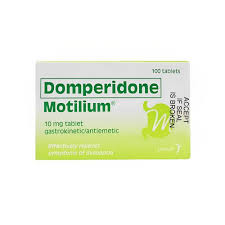Domperidone: (41, 78, 161, 97)
